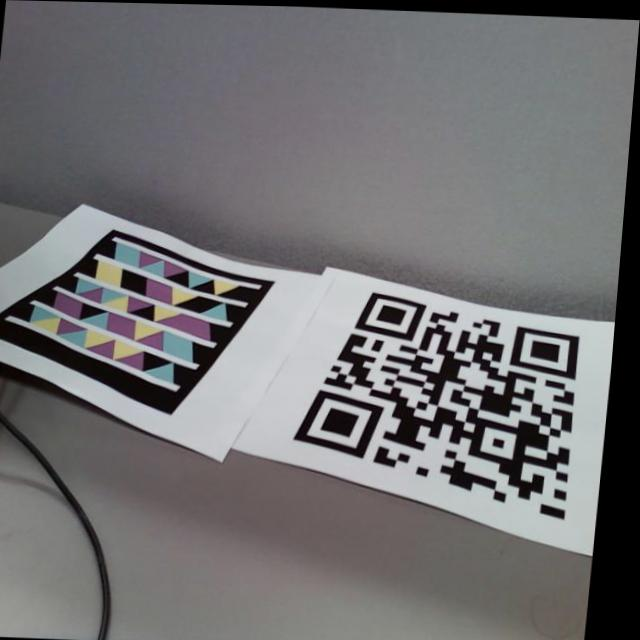qrcode: (295, 289, 591, 518)
